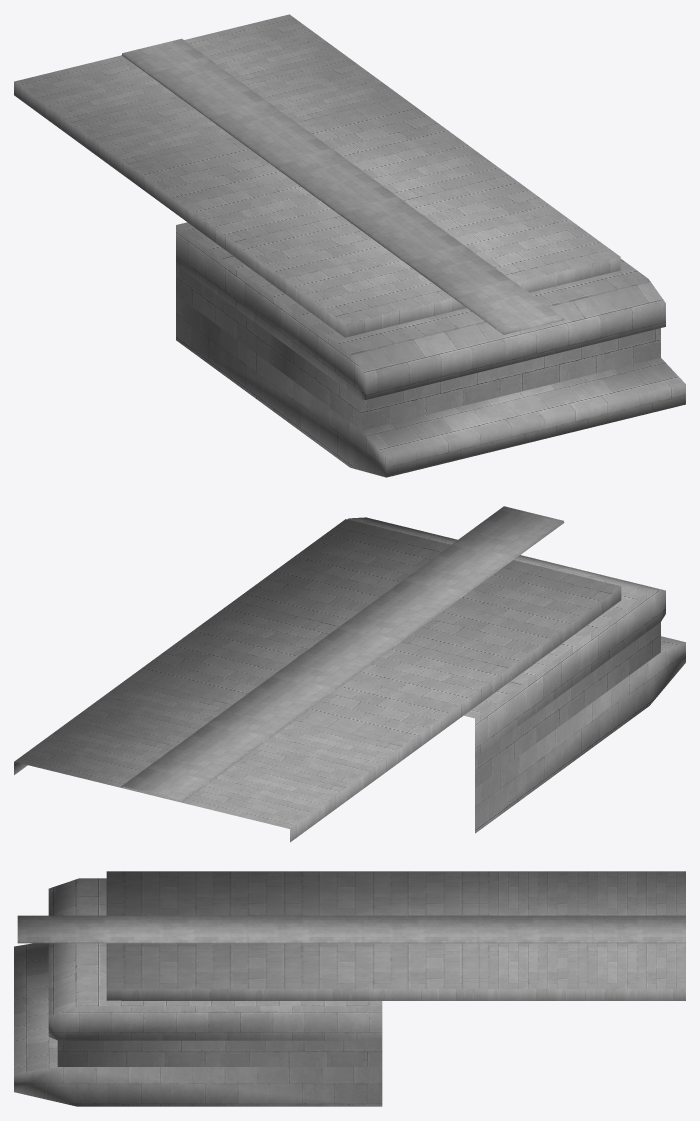
Rendered from Corridor_floor.fbx.
3 views of the same model, one above another, from view 1: azimuth 30°, elevation 25°; view 2: azimuth 150°, elevation 25°; view 3: azimuth 270°, elevation 25° (orthographic). The views are drawn at different scales.
Visible parts, largest first — view 1: Inside_Floor; view 2: Inside_Floor; view 3: Inside_Floor.
Boxes of the visible parts, x1=… form: Inside_Floor: x1=14, y1=14, x2=685, y2=477; Inside_Floor: x1=14, y1=506, x2=685, y2=842; Inside_Floor: x1=14, y1=871, x2=685, y2=1106.
Bounding box in the file's own units: 1659 × 692 × 3685.
